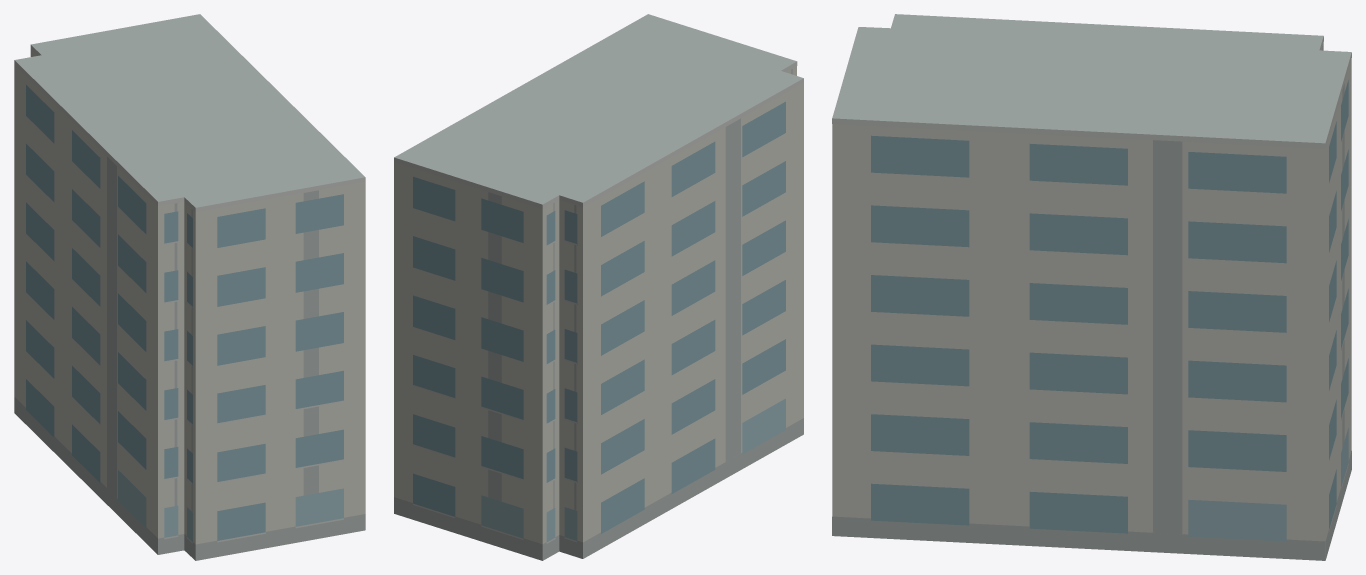
The model's file is survey-upis-32810689.glb.
The picture shows the model from 3 angles, left to right: view 1: azimuth 30°, elevation 25°; view 2: azimuth 150°, elevation 25°; view 3: azimuth 270°, elevation 25°; orthographic projection. The views are drawn at different scales.
Parts seen in each view (by area): view 1: survey-upis-32810689.tmp; view 2: survey-upis-32810689.tmp; view 3: survey-upis-32810689.tmp.
Boxes of the visible parts, <box> form: survey-upis-32810689.tmp: <box>14,14,365,560</box>; survey-upis-32810689.tmp: <box>394,14,803,560</box>; survey-upis-32810689.tmp: <box>832,14,1351,560</box>.
Bounding box in the file's own units: 12.36 × 18.6 × 20.99.
